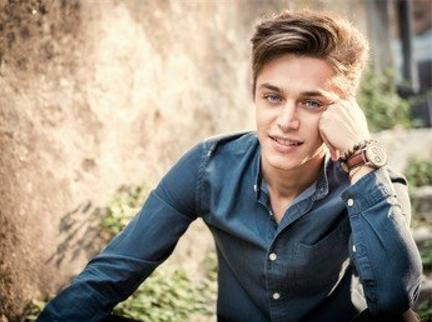Sober: (253, 67, 323, 167)
